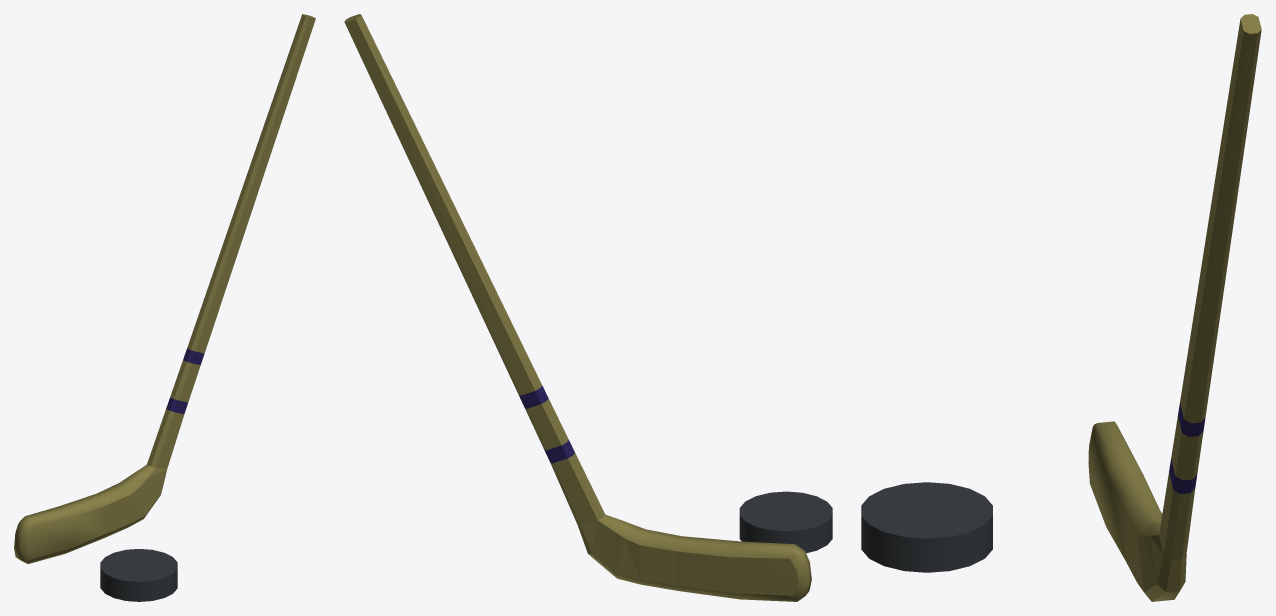
File: Hockey Anim.fbx
The picture shows the model from 3 angles, left to right: view 1: azimuth 30°, elevation 25°; view 2: azimuth 150°, elevation 25°; view 3: azimuth 270°, elevation 25°; orthographic projection. The views are drawn at different scales.
Visible parts, largest first — view 1: Box001, Cylinder001; view 2: Box001, Cylinder001; view 3: Box001, Cylinder001.
Boxes of the visible parts, x1,y1,x2,y2 form: Box001: [14, 14, 315, 563]; Cylinder001: [100, 549, 177, 601]; Box001: [344, 14, 811, 601]; Cylinder001: [739, 491, 832, 553]; Box001: [1088, 14, 1261, 601]; Cylinder001: [861, 482, 992, 572].
Size of the model in its own units: 356 by 438 by 211.
